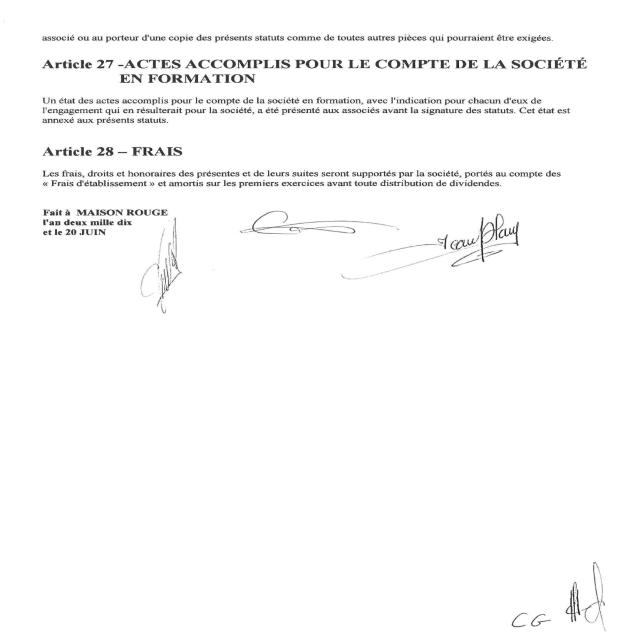signature: (326, 208, 556, 293), (112, 219, 218, 322), (227, 198, 407, 257)
